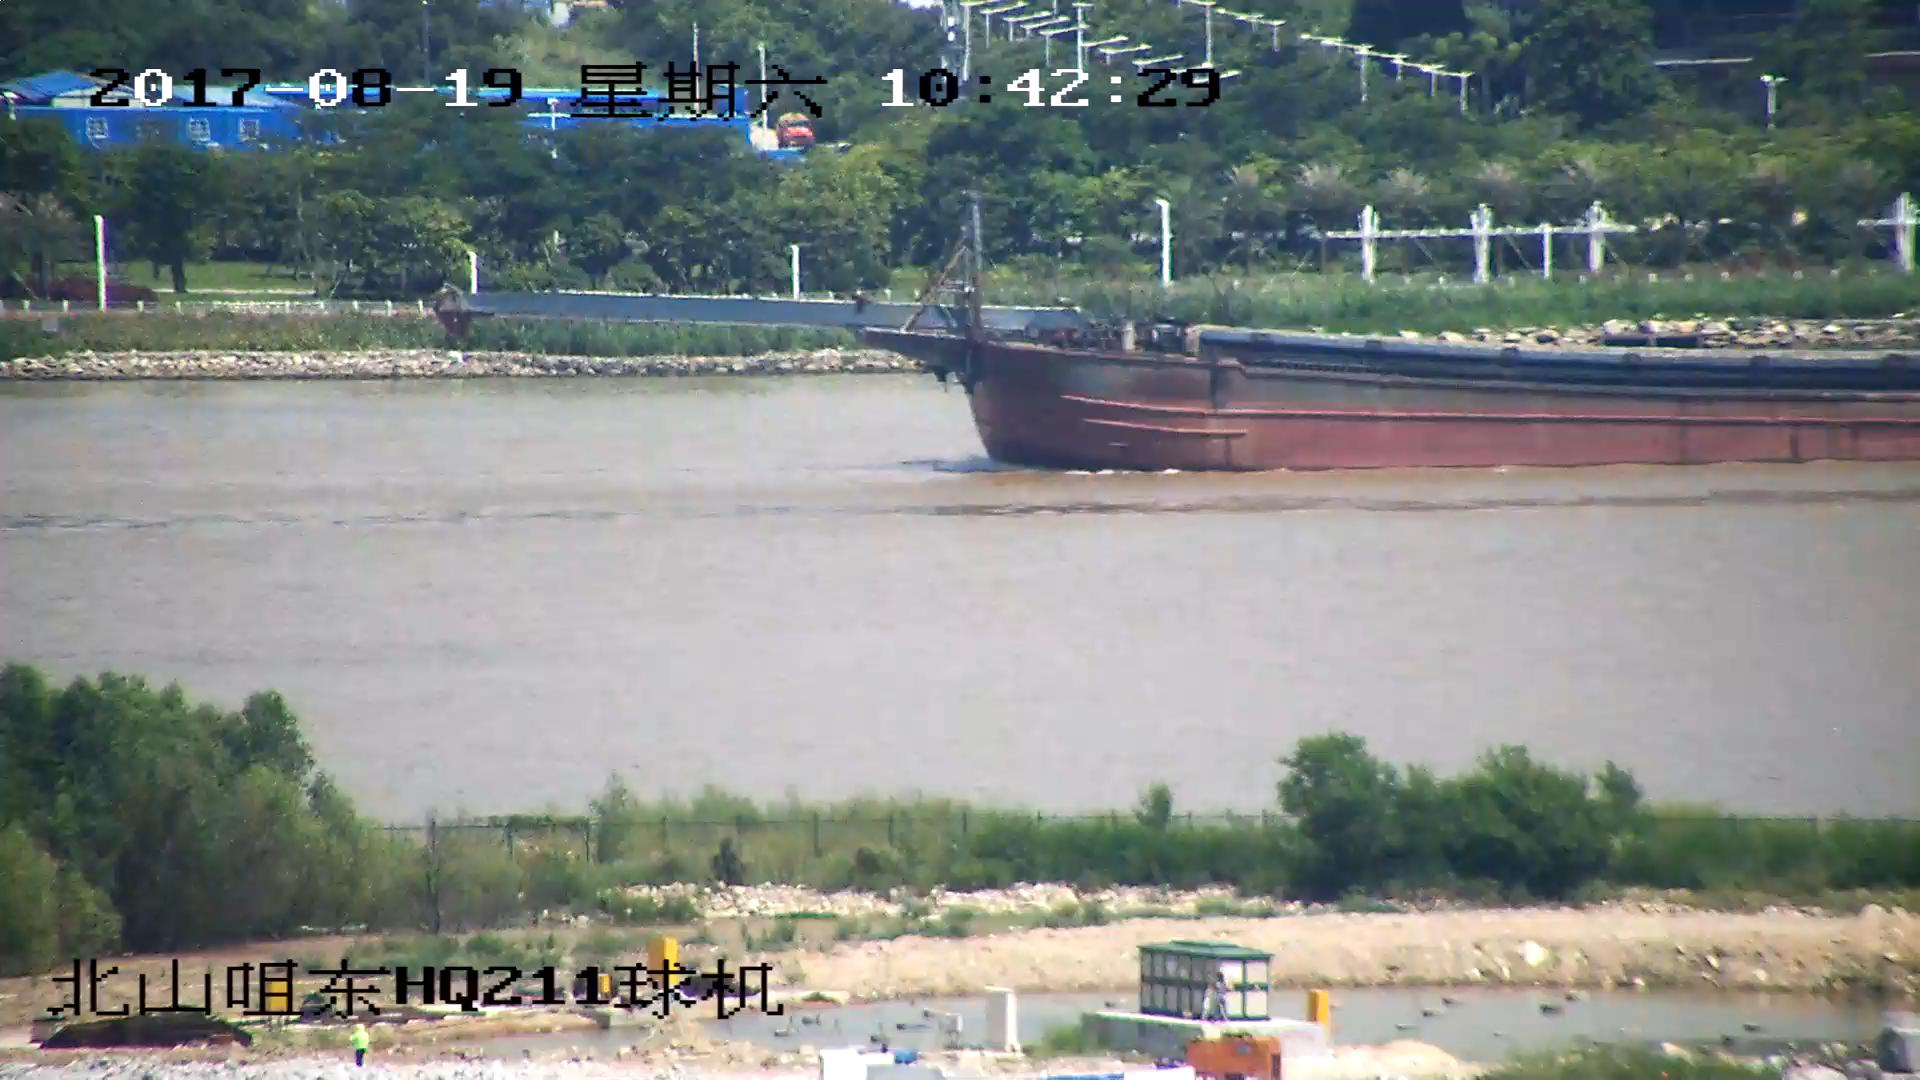bulk cargo carrier: (440, 194, 1920, 472)
